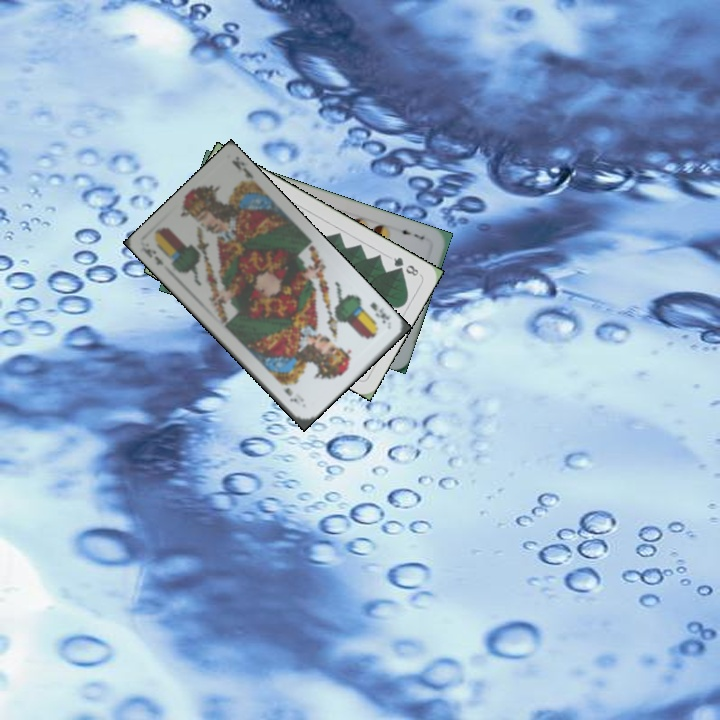E7: (394, 224, 427, 242)
EK: (366, 298, 393, 326), (138, 244, 166, 268)
G8: (389, 253, 421, 279)
